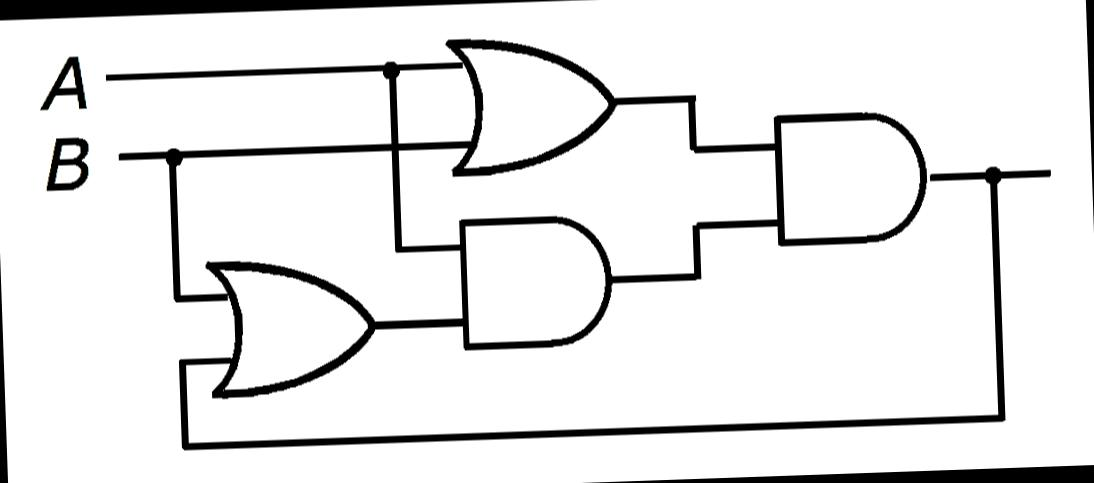and: (753, 93, 949, 265), (440, 201, 630, 358)
or: (422, 19, 636, 186), (193, 245, 396, 406)
